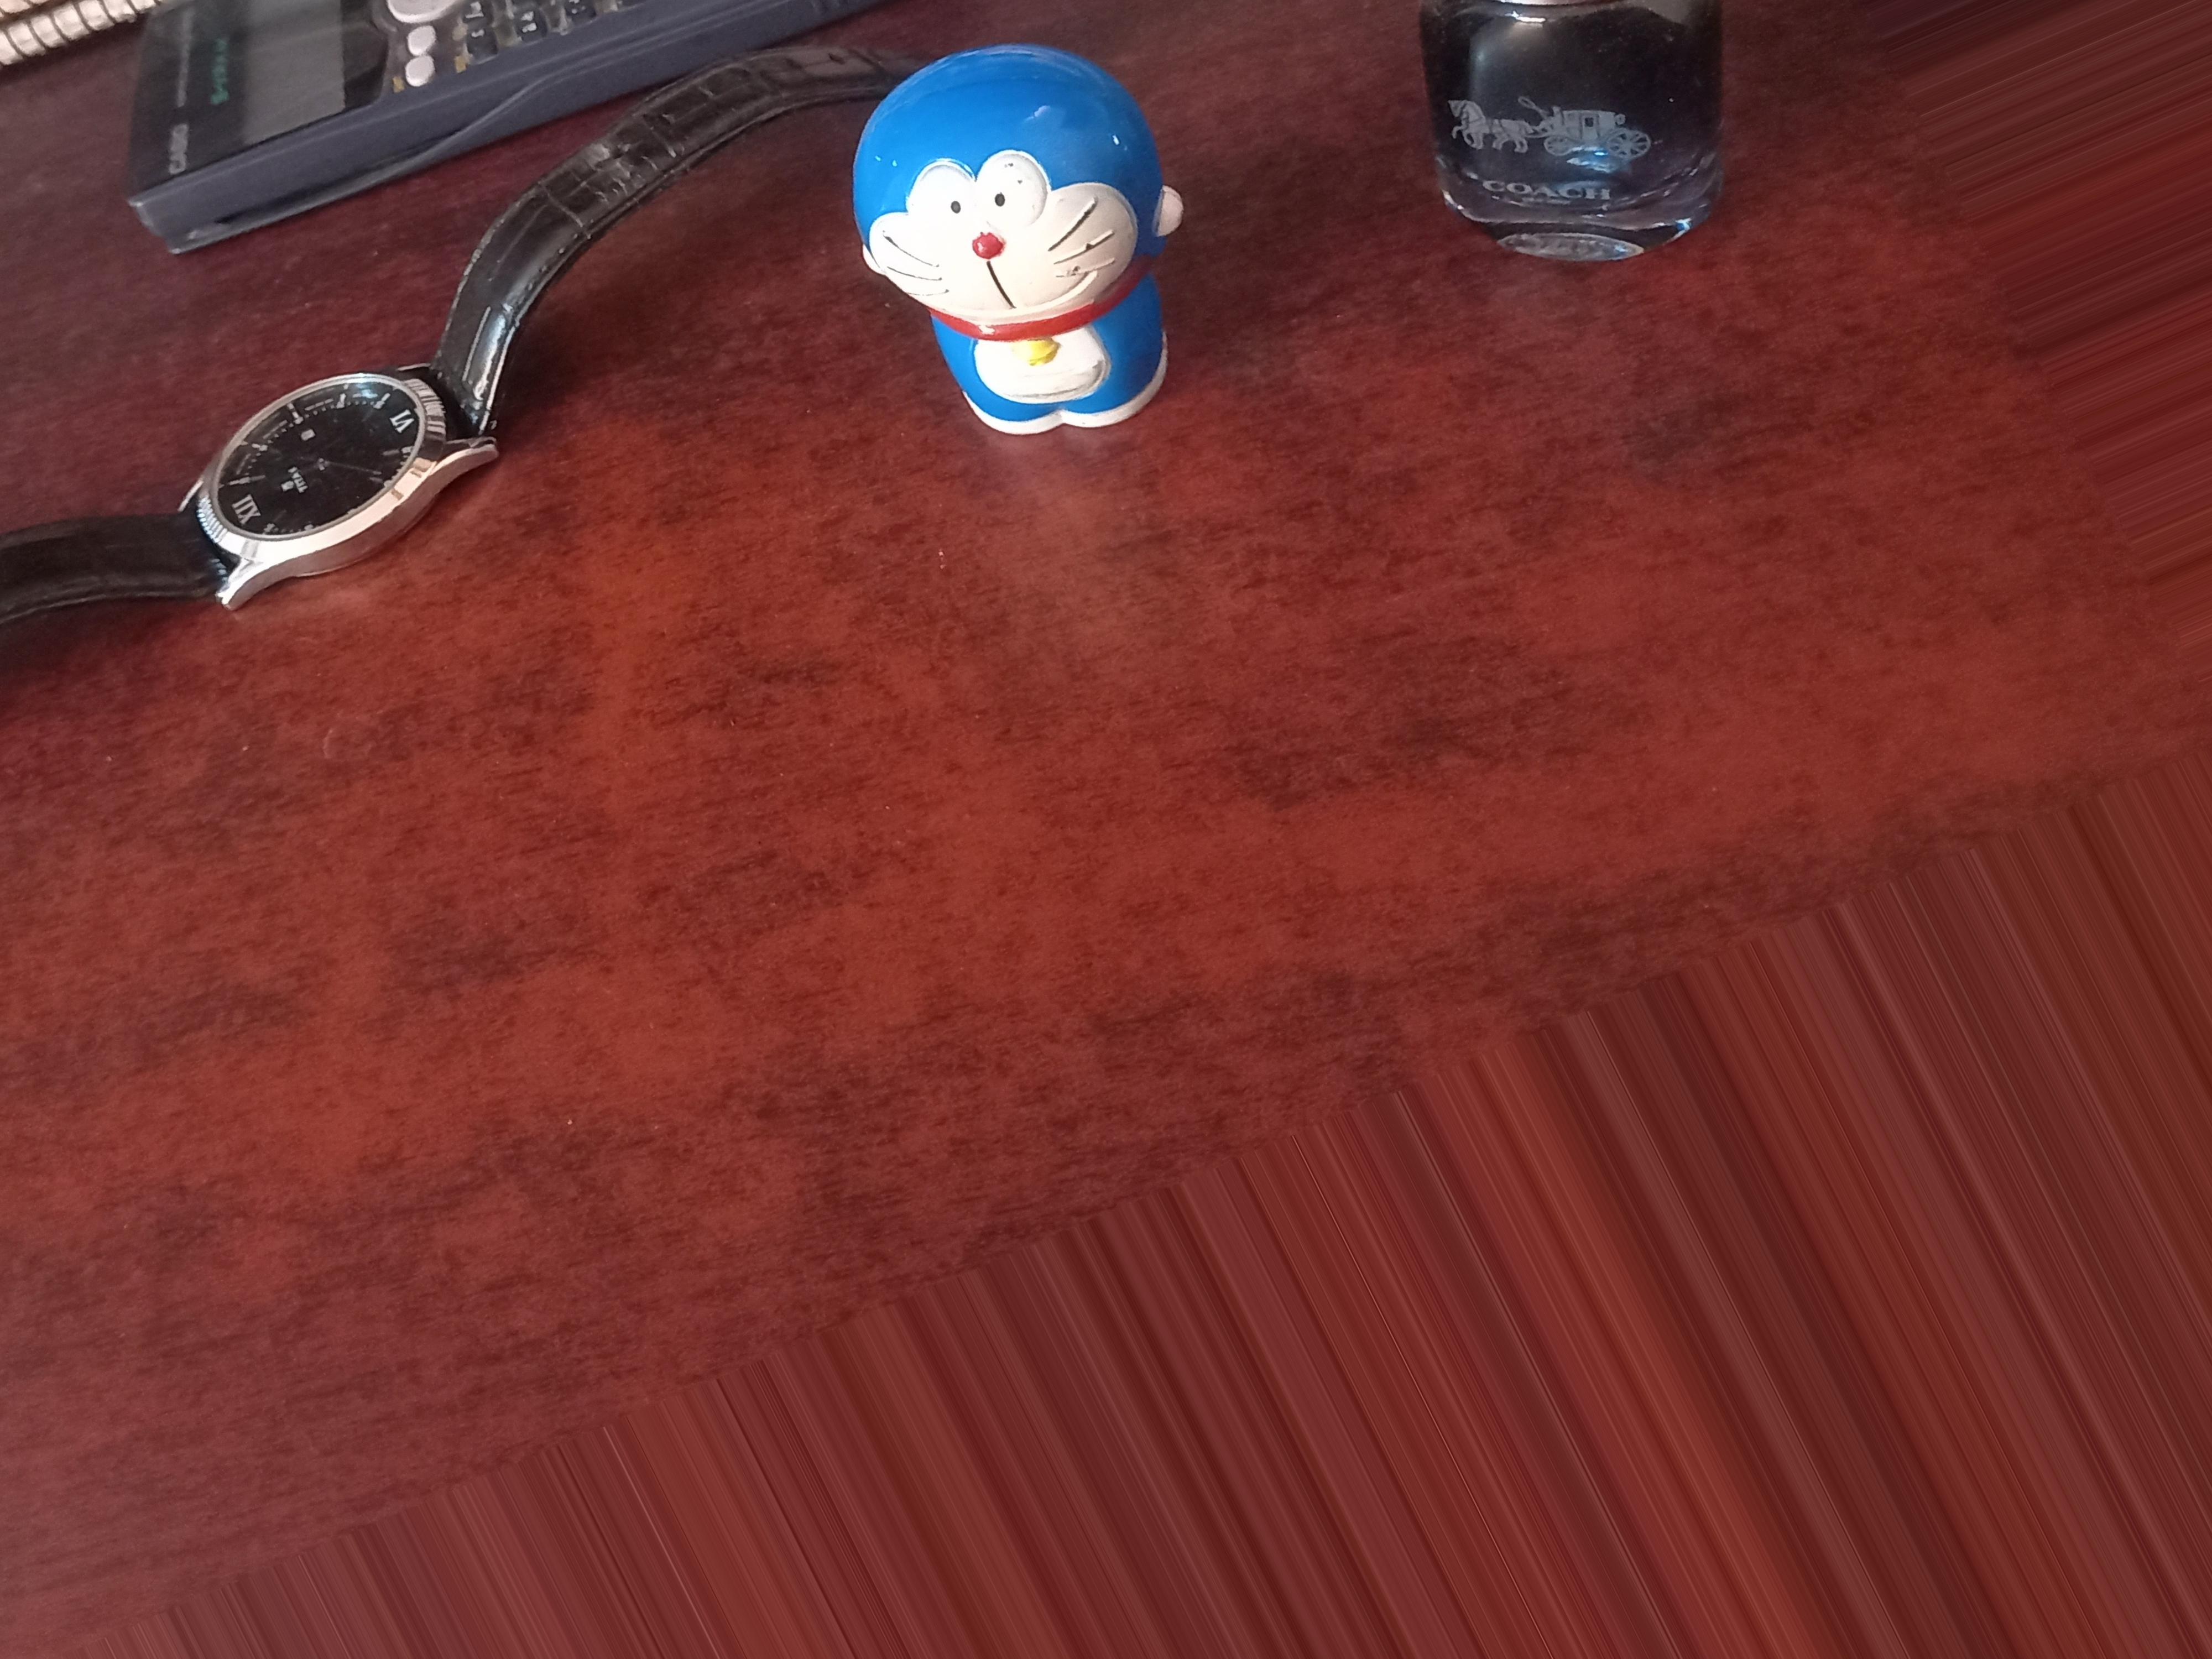calculator: (141, 7, 514, 183)
doraemon: (890, 101, 1195, 411)
perfume: (1446, 12, 1712, 223)
watch: (49, 322, 676, 570)
